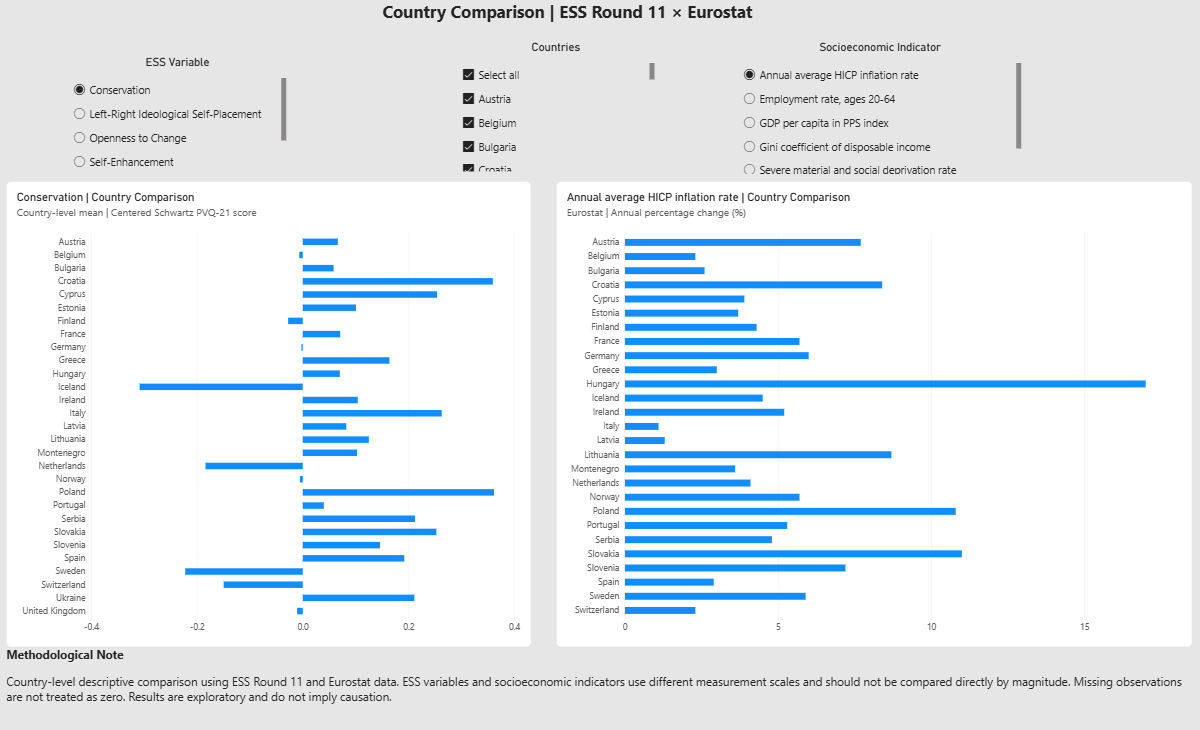

Layout of this report page (visuals, bound fields, positions):
{"tool":"powerbi","page":{"name":"Country Comparison","canvas":[1920,1230],"ordinal":3},"visuals":[{"type":"slicer","title":"ESS Variable","fields":{"Values":["dim_ess_variable.display_name"]},"box":[110.2,88.5,279.4,186.9],"z":0},{"type":"clusteredBarChart","fields":{"Category":["dim_country.country_name"],"Y":["fact_country_ess.ESS Value (Selected Variable)"]},"box":[9.8,289.2,840.2,745.7],"z":1},{"type":"slicer","title":"Socioeconomic Indicator","fields":{"Values":["dim_economic_indicator.display_name"]},"box":[1182.5,66.9,279.4,210.5],"z":2},{"type":"clusteredBarChart","fields":{"Category":["dim_country.country_name"],"Y":["fact_country_economic.Economic Value (Selected Indicator)"]},"box":[889.4,289.2,1017.3,745.7],"z":3},{"type":"slicer","title":"Countries","fields":{"Values":["dim_country.country_name"]},"box":[732,64.9,314.8,210.5],"z":4},{"type":"textbox","box":[611.9,0,787,88.5],"z":5},{"type":"textbox","box":[10.3,1034.6,1898.2,195.8],"z":6}]}

Visuals, with their boxes on the page's 1920x1230 design canvas (x1, y1, x2, y2). These are canvas units, not pixel positions in the 1200x730 screenshot, which may show the page scaled, cropped or inside an application window:
"ESS Variable" slicer: 110 88 390 275
clusteredBarChart - dim_country.country_name x fact_country_ess.ESS Value (Selected Variable): 10 289 850 1035
"Socioeconomic Indicator" slicer: 1182 67 1462 277
clusteredBarChart - dim_country.country_name x fact_country_economic.Economic Value (Selected Indicator): 889 289 1907 1035
"Countries" slicer: 732 65 1047 275
textbox: 612 0 1399 88
textbox: 10 1035 1908 1230
